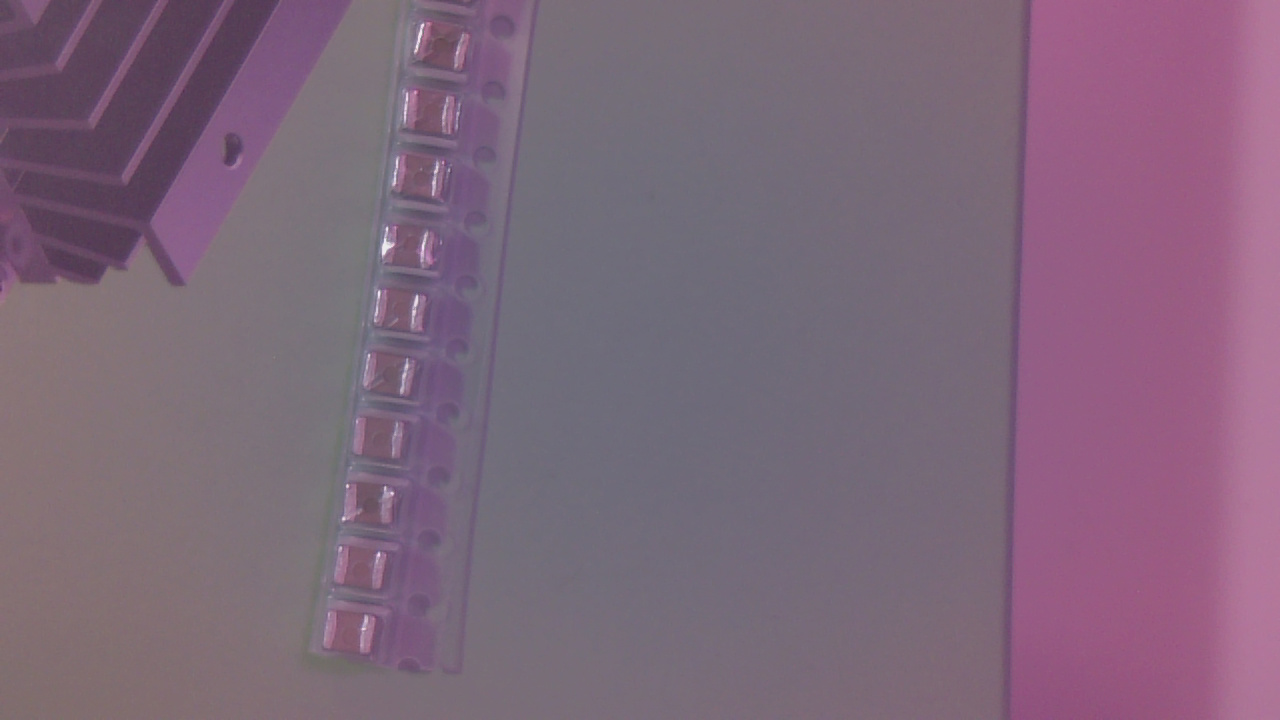Condensator: (384, 227, 445, 279), (340, 546, 395, 599), (398, 155, 452, 207), (349, 481, 404, 532), (410, 91, 464, 141), (327, 612, 382, 660), (376, 293, 437, 334), (421, 27, 474, 72), (356, 419, 414, 459), (368, 359, 425, 399)
